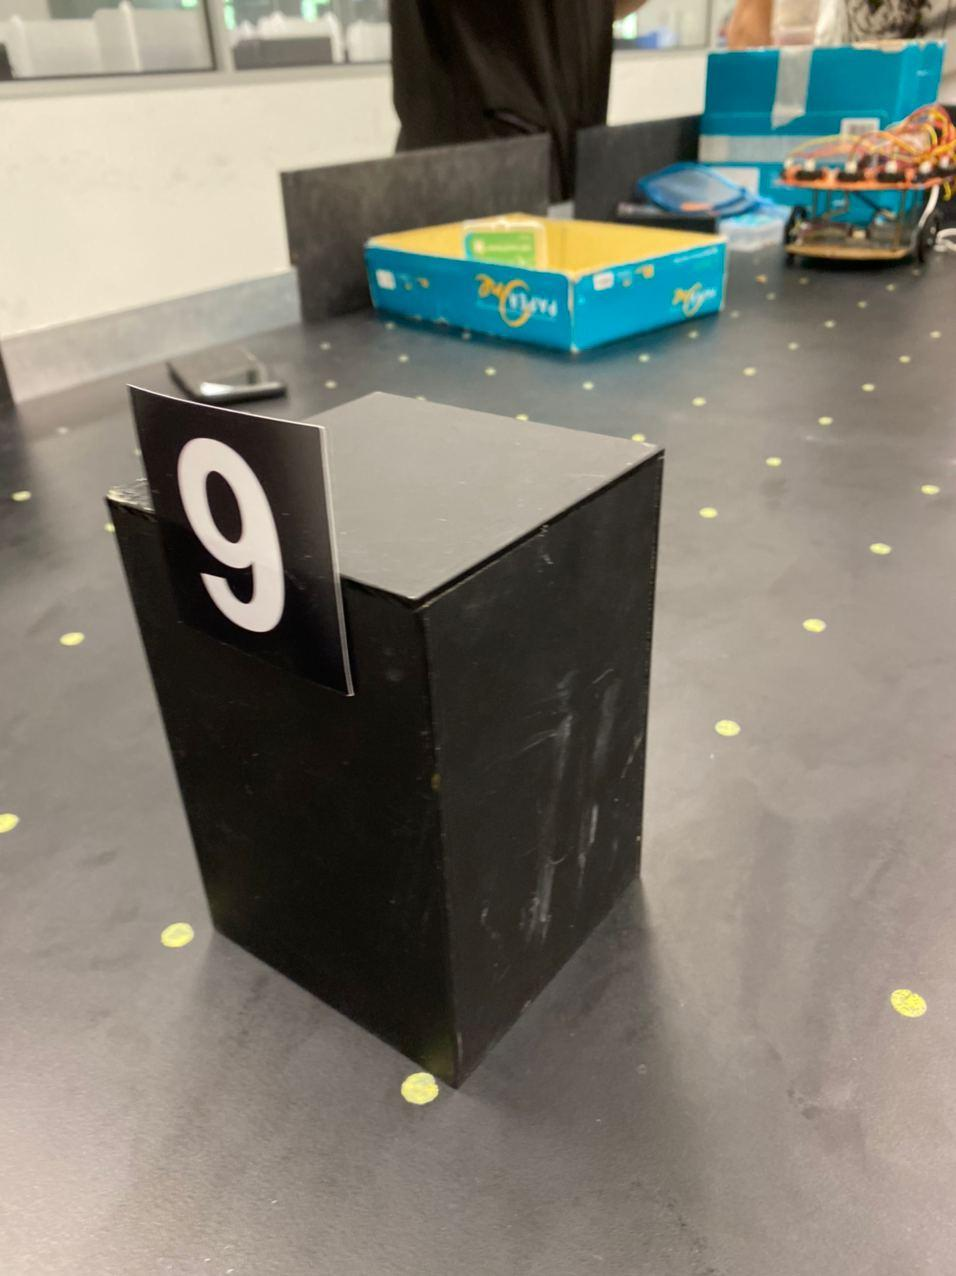9dd: (162, 417, 307, 652)
